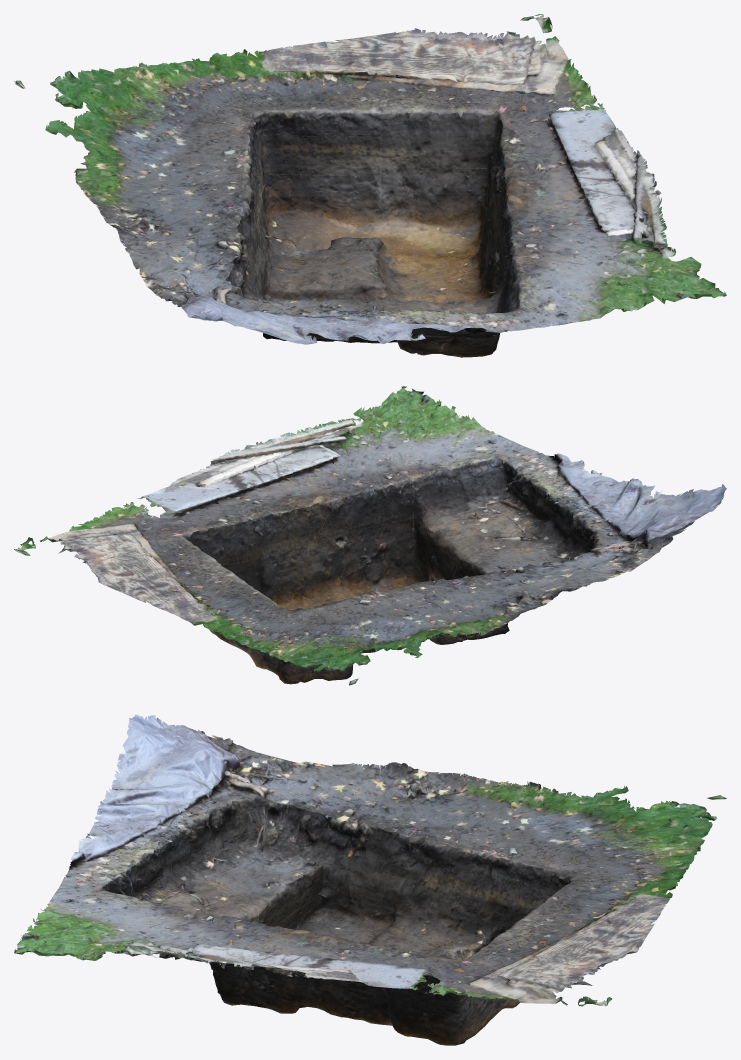
File: strata.obj
3 renders of one model, top to bottom at view 1: azimuth 30°, elevation 25°; view 2: azimuth 150°, elevation 25°; view 3: azimuth 270°, elevation 25°, orthographic. The views are drawn at different scales.
Size of the model in its own units: 1307 by 331 by 1474.
